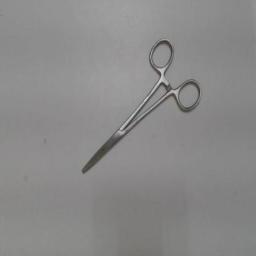Mayo Needle Holder: (72, 32, 206, 182)
